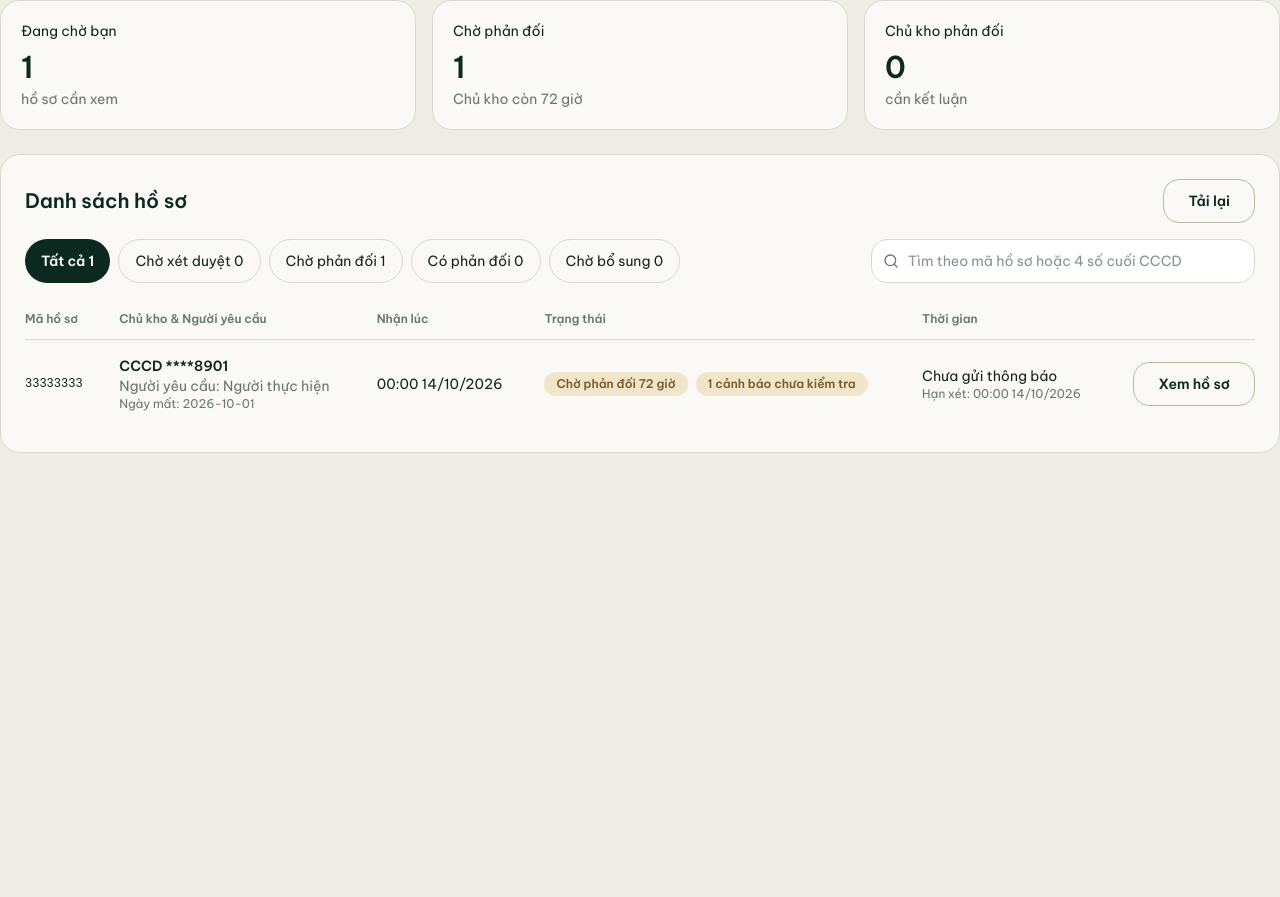
Test: tải danh sách hồ sơ, chọn hồ sơ hiển thị chi tiết với CCCD đầy đủ
What coordinates should you click on to do the following:
click the button with aria-label "Xem hồ sơ #33333333"
I would click on:
 (1194, 384)
Its box is [1134,362,1255,406].
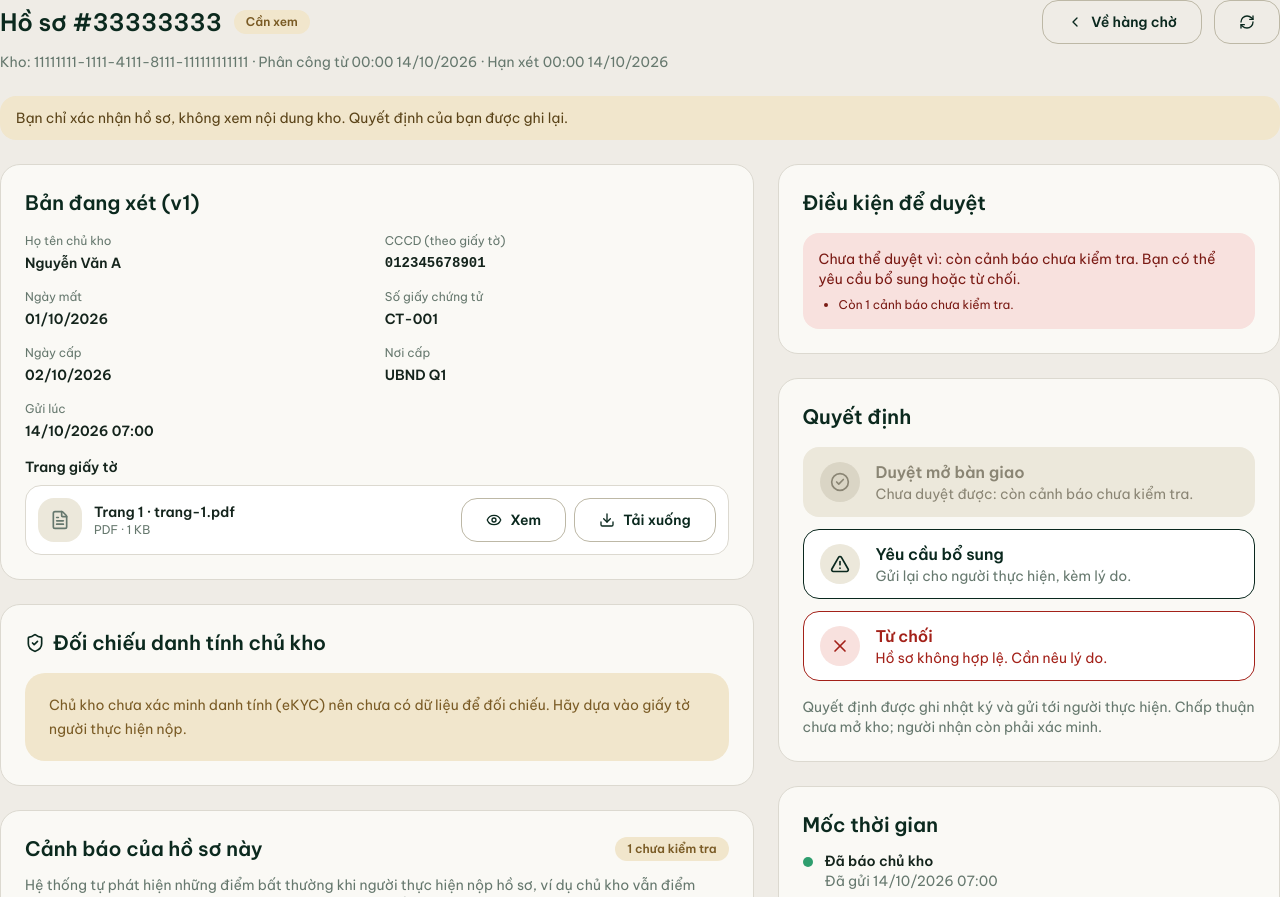
Expected: the text "012345678901" is shown, [385,255,486,271]
